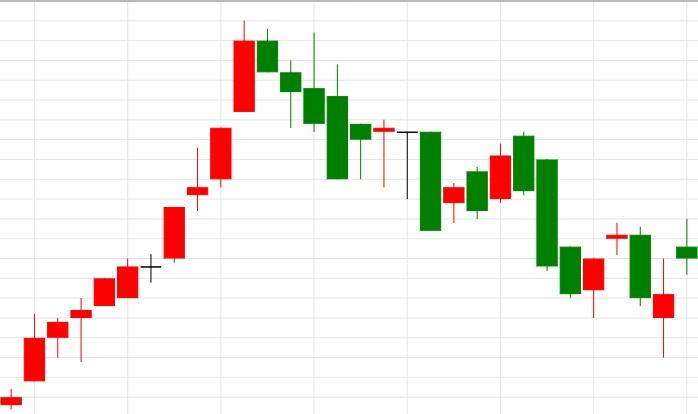three_black_crows_fall: (0, 20, 325, 409)
